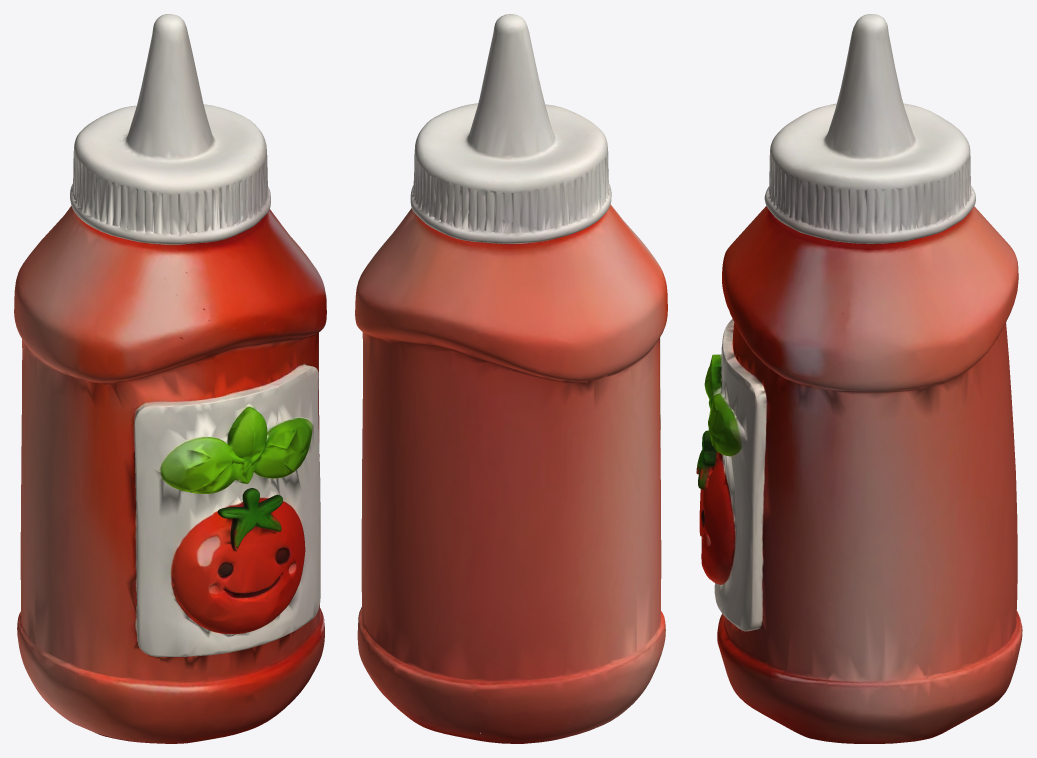
The model's file is sauce-bottle.glb.
The picture shows the model from 3 angles, left to right: view 1: azimuth 30°, elevation 25°; view 2: azimuth 150°, elevation 25°; view 3: azimuth 270°, elevation 25°; orthographic projection.
Visible parts, largest first — view 1: tripo_node_e6c24b4e-1814-48b5-85bf-65a259edcf24; view 2: tripo_node_e6c24b4e-1814-48b5-85bf-65a259edcf24; view 3: tripo_node_e6c24b4e-1814-48b5-85bf-65a259edcf24.
Part boxes in pixels (left/top/right/bottom): tripo_node_e6c24b4e-1814-48b5-85bf-65a259edcf24: left=14, top=14, right=326, bottom=743; tripo_node_e6c24b4e-1814-48b5-85bf-65a259edcf24: left=355, top=14, right=667, bottom=743; tripo_node_e6c24b4e-1814-48b5-85bf-65a259edcf24: left=696, top=14, right=1022, bottom=743.
Size of the model in its own units: 0.4028 by 0.9788 by 0.4268.
1 material, 1 textured.
